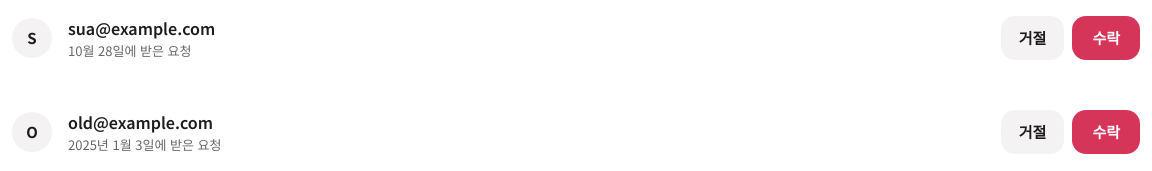
Scenario: FriendRequestList › accepts a request through the existing RPC and refreshes
Expected: the text "sua@example.com" is shown, [68,16,215,40]
Click the button "수락" in the row of "sua@example.com" at (1106, 38), box [1072,16,1140,60]
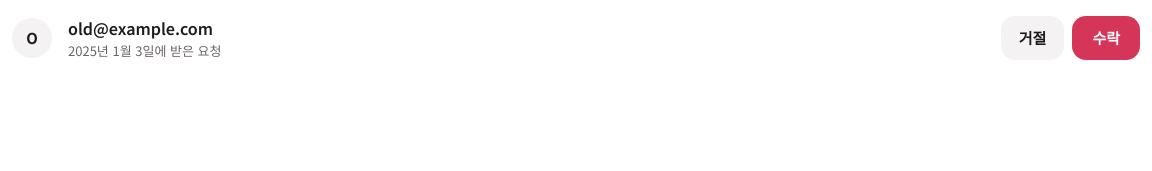
Expected: the text "sua@example.com" is gone
